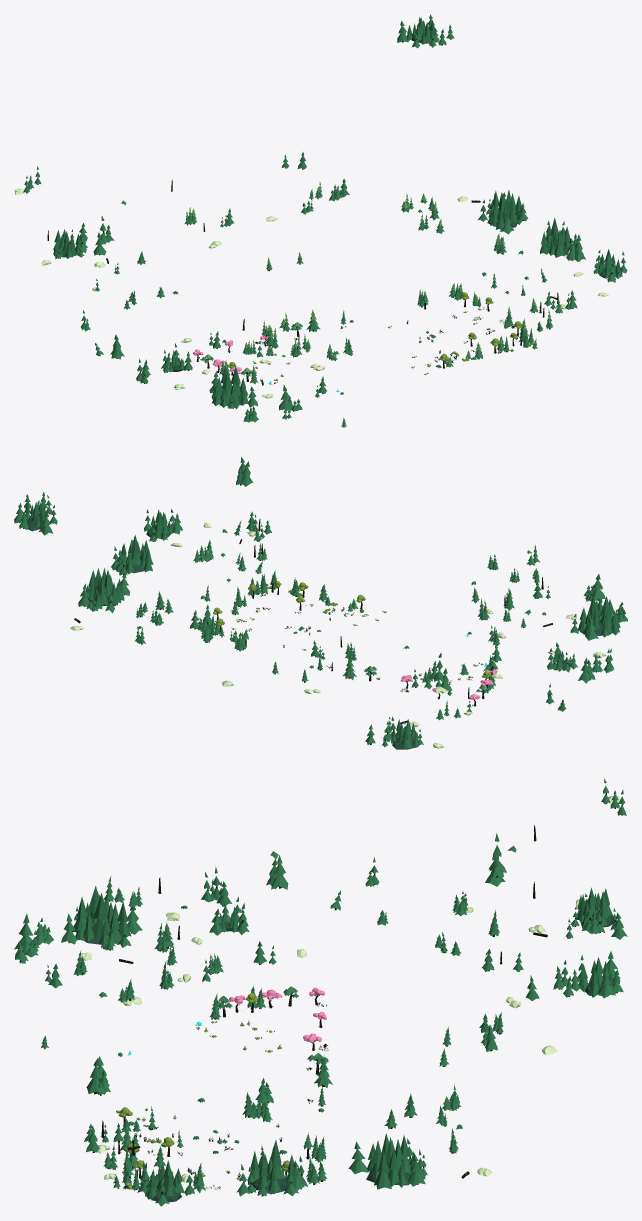
Rendered from LOBBY_09_VEGETATION_286566.fbx.
3 renders of one model, top to bottom at view 1: azimuth 30°, elevation 25°; view 2: azimuth 150°, elevation 25°; view 3: azimuth 270°, elevation 25°, orthographic. The views are drawn at different scales.
Parts seen in each view (by area): view 1: VEG_Leste_Norte__Leaf_Pine, VEG_Oeste_Sul__Leaf_Pine, VEG_Noroeste__Leaf_Pine, VEG_Leste_Sul__Leaf_Pine, VEG_Vale_Oeste__Leaf_Pine, VEG_Nordeste__Leaf_Pine, VEG_Oeste_Norte__Leaf_Pine, VEG_Vale_Leste__Leaf_Pine, VEG_Norte_Leste__Leaf_Pine; view 2: VEG_Leste_Norte__Leaf_Pine, VEG_Oeste_Sul__Leaf_Pine, VEG_Noroeste__Leaf_Pine, VEG_Leste_Sul__Leaf_Pine, VEG_Vale_Oeste__Leaf_Pine, VEG_Nordeste__Leaf_Pine, VEG_Oeste_Norte__Leaf_Pine, VEG_Vale_Leste__Leaf_Pine, VEG_Norte_Leste__Leaf_Pine, VEG_Vale_Leste__Leaf_Broad; view 3: VEG_Leste_Norte__Leaf_Pine, VEG_Oeste_Sul__Leaf_Pine, VEG_Vale_Oeste__Leaf_Pine, VEG_Noroeste__Leaf_Pine, VEG_Leste_Sul__Leaf_Pine, VEG_Nordeste__Leaf_Pine, VEG_Oeste_Norte__Leaf_Pine, VEG_Vale_Leste__Leaf_Pine, VEG_Norte_Leste__Leaf_Pine, VEG_Queda_Sul_Oeste__Leaf_Pine, VEG_Vale_Leste__Leaf_Broad, VEG_Vale_Oeste__Sakura_Pink.
Part boxes in pixels (bbox=[...]): VEG_Leste_Norte__Leaf_Pine: bbox=[478, 190, 583, 294]; VEG_Oeste_Sul__Leaf_Pine: bbox=[209, 339, 298, 422]; VEG_Noroeste__Leaf_Pine: bbox=[23, 166, 144, 309]; VEG_Leste_Sul__Leaf_Pine: bbox=[521, 234, 627, 331]; VEG_Vale_Oeste__Leaf_Pine: bbox=[201, 316, 343, 394]; VEG_Nordeste__Leaf_Pine: bbox=[397, 14, 505, 228]; VEG_Oeste_Norte__Leaf_Pine: bbox=[81, 287, 192, 383]; VEG_Vale_Leste__Leaf_Pine: bbox=[340, 286, 537, 368]; VEG_Norte_Leste__Leaf_Pine: bbox=[281, 152, 444, 264]; VEG_Leste_Norte__Leaf_Pine: bbox=[86, 513, 230, 613]; VEG_Oeste_Sul__Leaf_Pine: bbox=[542, 574, 627, 640]; VEG_Noroeste__Leaf_Pine: bbox=[365, 652, 471, 749]; VEG_Leste_Sul__Leaf_Pine: bbox=[144, 456, 271, 573]; VEG_Vale_Oeste__Leaf_Pine: bbox=[343, 546, 539, 693]; VEG_Nordeste__Leaf_Pine: bbox=[14, 492, 144, 643]; VEG_Oeste_Norte__Leaf_Pine: bbox=[460, 609, 614, 711]; VEG_Vale_Leste__Leaf_Pine: bbox=[200, 571, 384, 670]; VEG_Norte_Leste__Leaf_Pine: bbox=[137, 592, 278, 674]; VEG_Vale_Leste__Leaf_Broad: bbox=[213, 581, 386, 668]; VEG_Leste_Norte__Leaf_Pine: bbox=[193, 1078, 414, 1196]; VEG_Oeste_Sul__Leaf_Pine: bbox=[14, 886, 187, 963]; VEG_Vale_Oeste__Leaf_Pine: bbox=[101, 877, 332, 1087]; VEG_Noroeste__Leaf_Pine: bbox=[435, 778, 627, 955]; VEG_Leste_Sul__Leaf_Pine: bbox=[84, 1056, 194, 1206]; VEG_Nordeste__Leaf_Pine: bbox=[408, 951, 623, 1186]; VEG_Oeste_Norte__Leaf_Pine: bbox=[201, 851, 388, 935]; VEG_Vale_Leste__Leaf_Pine: bbox=[113, 1087, 327, 1192]; VEG_Norte_Leste__Leaf_Pine: bbox=[384, 952, 539, 1150]; VEG_Queda_Sul_Oeste__Leaf_Pine: bbox=[15, 937, 107, 1048]; VEG_Vale_Leste__Leaf_Broad: bbox=[116, 1107, 324, 1189]; VEG_Vale_Oeste__Sakura_Pink: bbox=[205, 987, 326, 1051].
Bounding box in the file's own units: 455 × 182 × 361.
10 materials, 3 textured.
